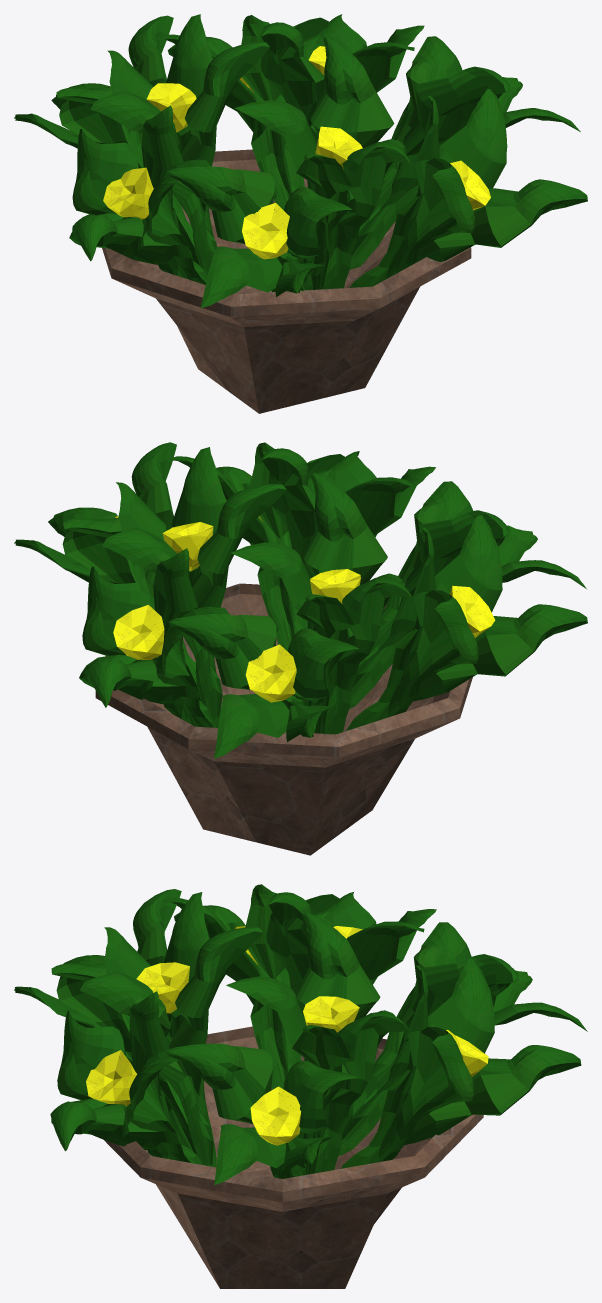
File: VasoFlores_Amarela.fbx
3 renders of one model, top to bottom at view 1: azimuth 30°, elevation 25°; view 2: azimuth 150°, elevation 25°; view 3: azimuth 270°, elevation 25°, orthographic. The views are drawn at different scales.
Parts seen in each view (by area): view 1: Folhas, Vaso, Flores; view 2: Folhas, Vaso, Flores; view 3: Folhas, Vaso, Flores.
Boxes of the visible parts, left/top/right/bottom form: Folhas: left=14, top=14, right=587, bottom=307; Vaso: left=102, top=149, right=471, bottom=413; Flores: left=103, top=46, right=490, bottom=259; Folhas: left=14, top=442, right=587, bottom=758; Vaso: left=95, top=583, right=472, bottom=855; Flores: left=113, top=515, right=495, bottom=702; Folhas: left=14, top=884, right=587, bottom=1185; Vaso: left=104, top=1026, right=483, bottom=1288; Flores: left=86, top=926, right=488, bottom=1145.
Bounding box in the file's own units: 96.49 × 62.13 × 91.73.
Materials: 3 (3 with a texture image).
